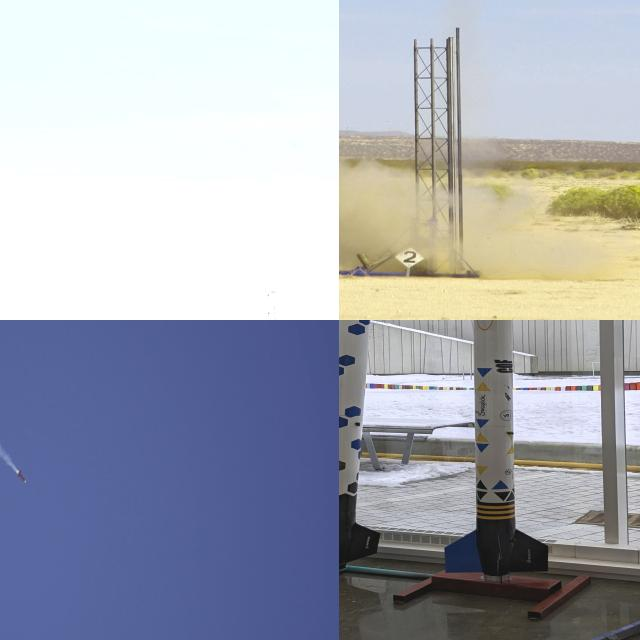Rocket: (444, 320, 548, 584), (339, 320, 381, 570), (18, 470, 27, 484)
